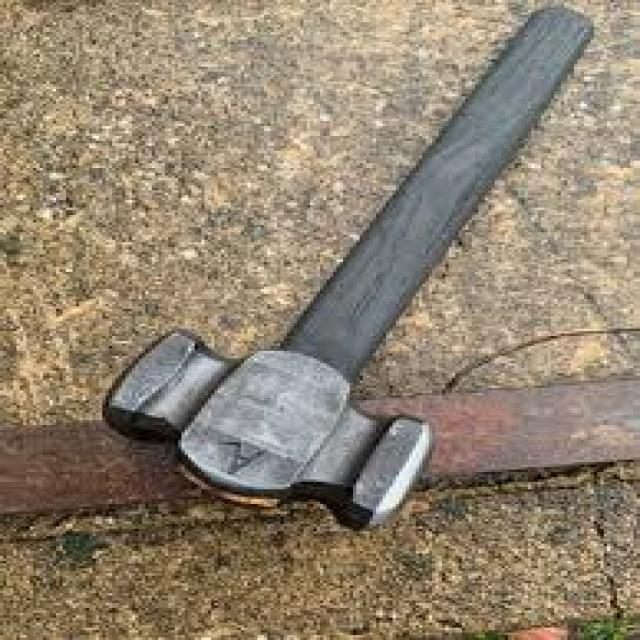hammer: (95, 0, 607, 531)
